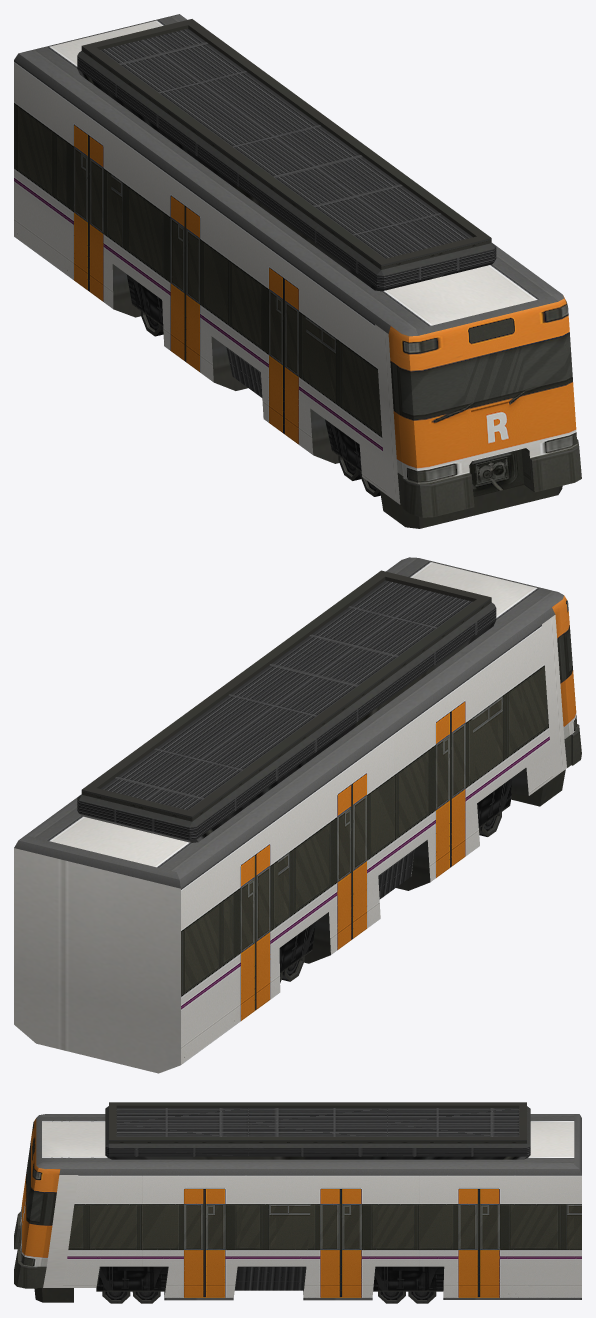
The picture shows the model from 3 angles, top to bottom: view 1: azimuth 30°, elevation 25°; view 2: azimuth 150°, elevation 25°; view 3: azimuth 270°, elevation 25°; orthographic projection. The views are drawn at different scales.
Visible parts, largest first — view 1: 447; view 2: 447; view 3: 447.
Boxes of the visible parts, bbox=[...] form: 447: bbox=[14, 14, 581, 528]; 447: bbox=[14, 557, 581, 1073]; 447: bbox=[14, 1102, 581, 1303].
Size of the model in its own units: 2.12 by 2.75 by 8.76.
1 material, 1 textured.
